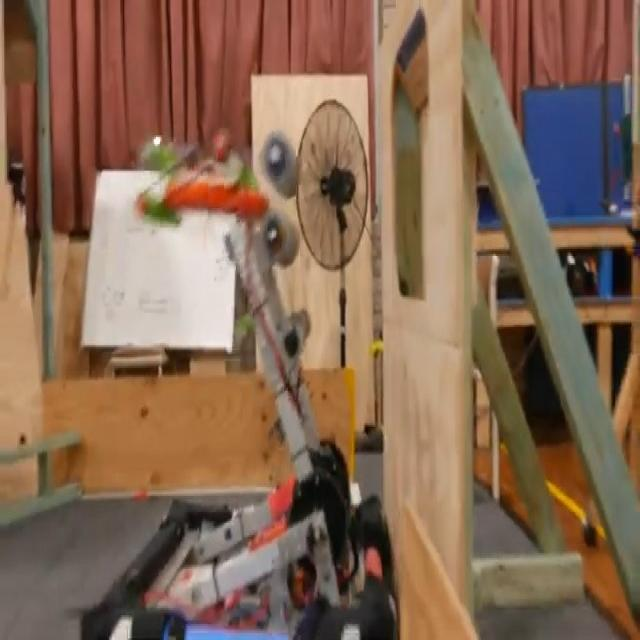note: (163, 176, 264, 218)
